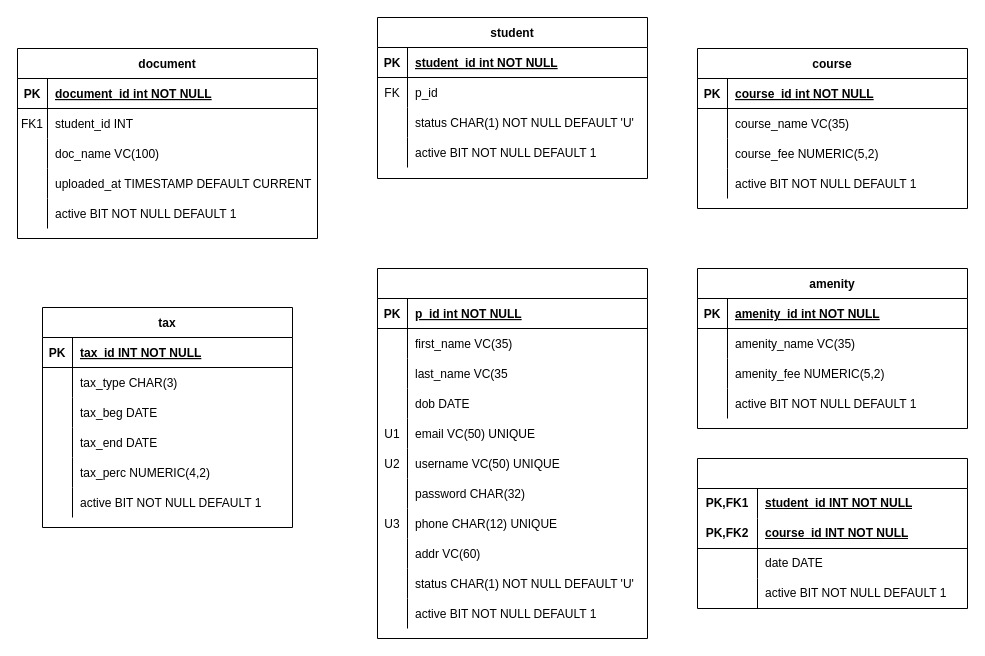
Image size: 985x656. Some labels were removed from this diagram. The shapes that lost their labels are listed below. From the top down, each one's box as (x1, y1, x2, y2) in pixels, then its label:
(376, 268, 648, 638): people
(696, 458, 968, 608): student_course
